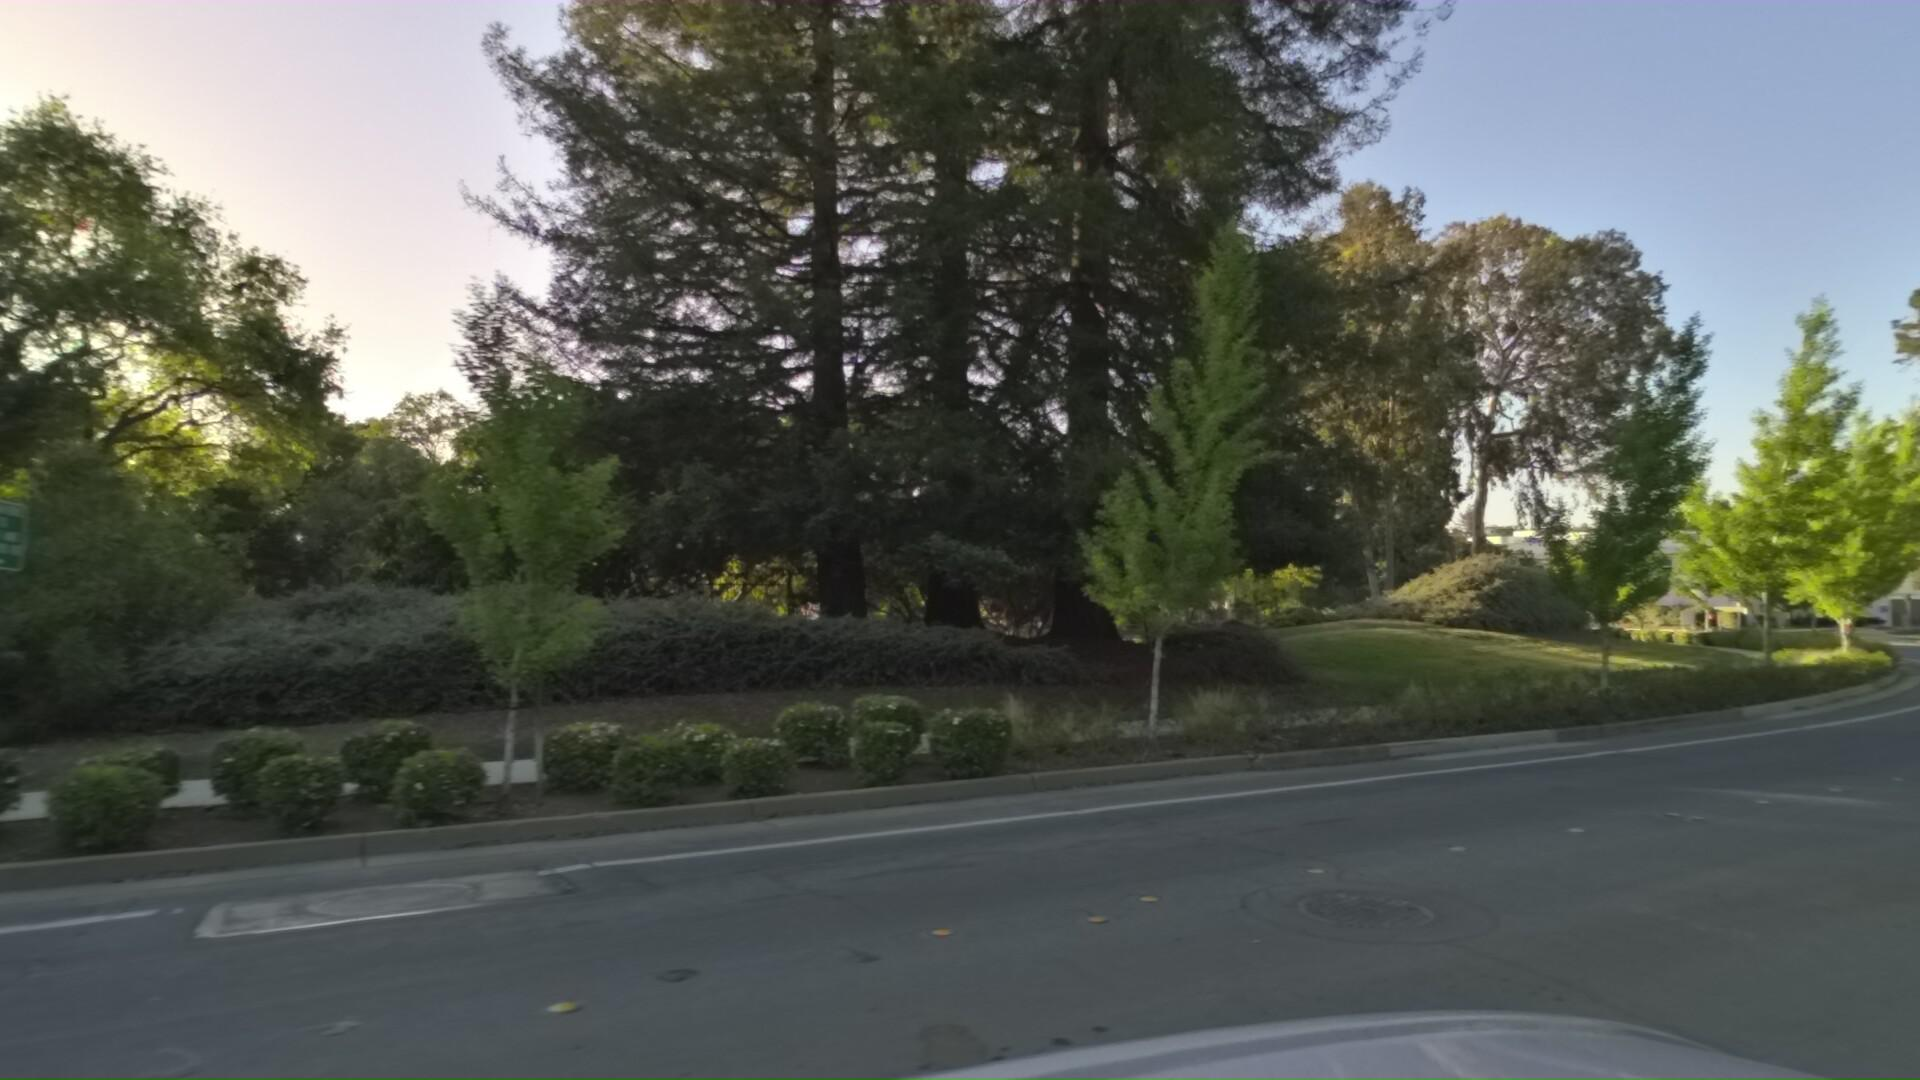bicycle: (1687, 604, 1721, 640), (1905, 607, 1920, 671)
